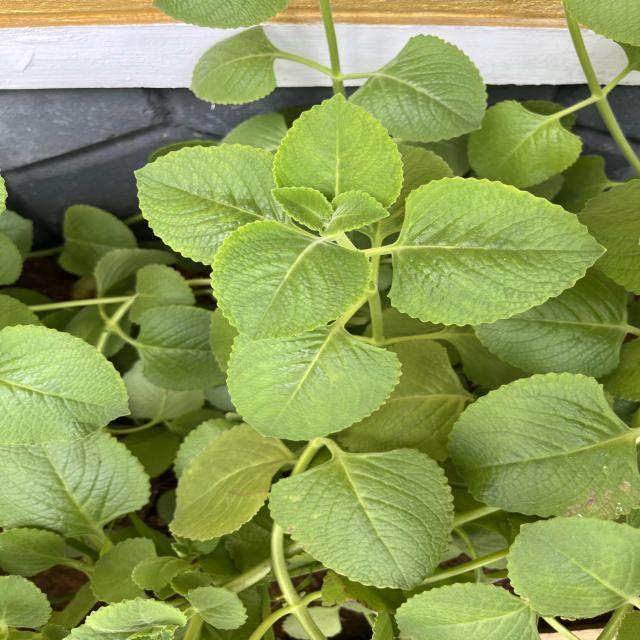Plectranthus barbatus: (386, 175, 610, 329), (445, 371, 640, 521), (266, 446, 455, 592), (208, 218, 374, 344), (226, 333, 404, 442), (132, 142, 274, 266), (0, 322, 133, 447), (346, 33, 489, 144), (272, 92, 404, 205), (504, 514, 640, 619), (167, 422, 286, 542), (466, 100, 585, 189), (187, 24, 278, 106), (319, 190, 391, 238), (270, 186, 334, 232)
